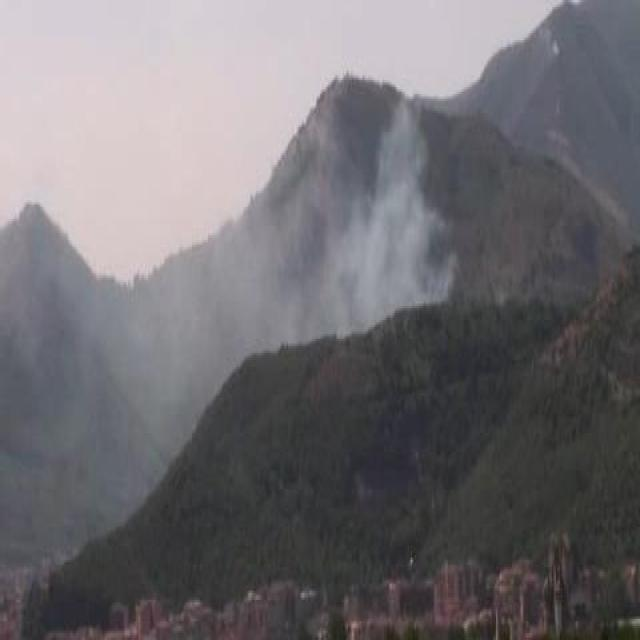Smoke: (281, 100, 447, 335), (53, 270, 214, 492)
